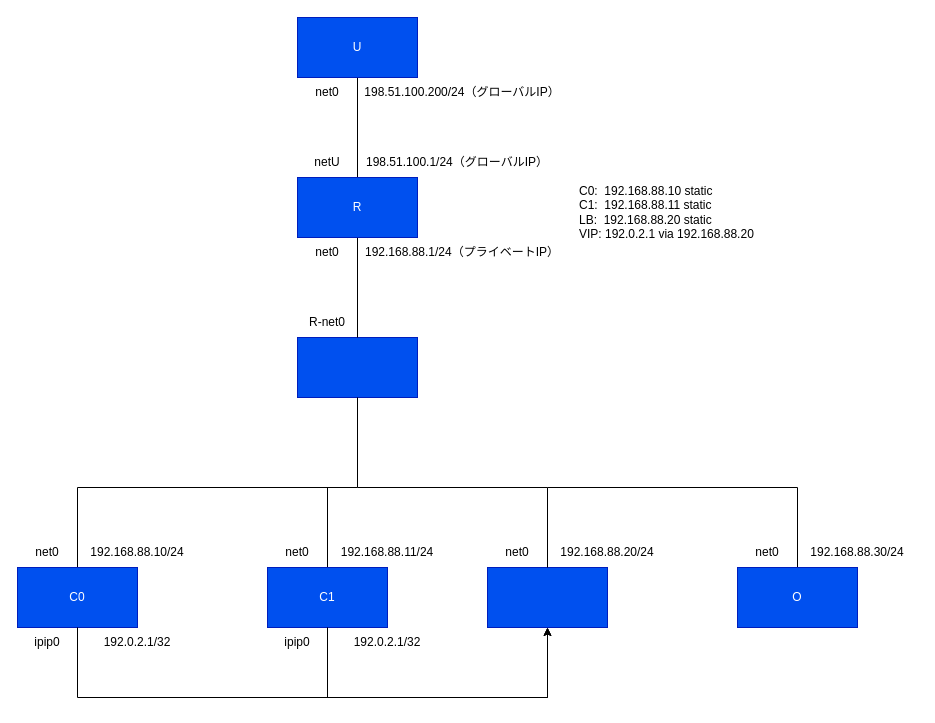
This 935x723 diagram has some shape labels left out. Here are the shapes that lost their labels. From the top down, the centre of each, then its label:
pixel 357 367: brDev
pixel 547 597: LB
